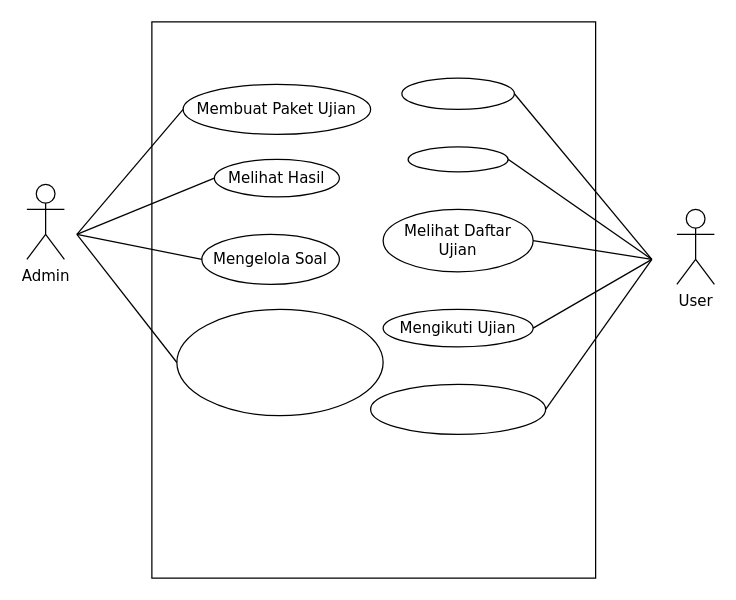
This 736x600 diagram has some shape labels left out. Here are the shapes that lost their labels. From the top down, the centre of each, then its label:
point (457, 93): Registrasi
point (457, 159): Login
point (279, 362): Pengaturan Jadwal dan Durasi Ujian
point (457, 408): Melihat Hasil Ujian
